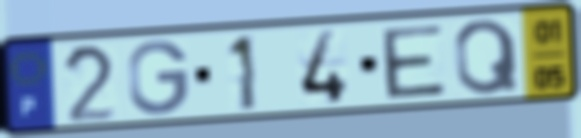1: (225, 32, 260, 113)
2: (60, 42, 121, 125)
4: (297, 28, 350, 107)
E: (377, 22, 450, 102)
G: (126, 37, 192, 118)
Q: (451, 16, 523, 98)
